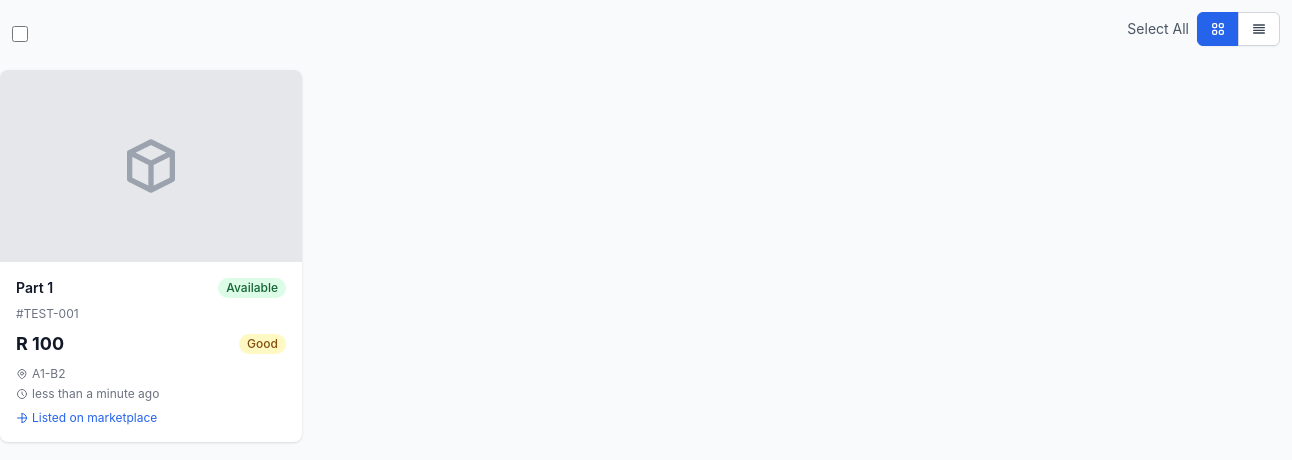
PartsList › View Mode Toggle › switches to list view when list button is clicked
The width and height of the screenshot is (1292, 460).
Click the 3rd button: (1259,29) [1238,12,1280,46]
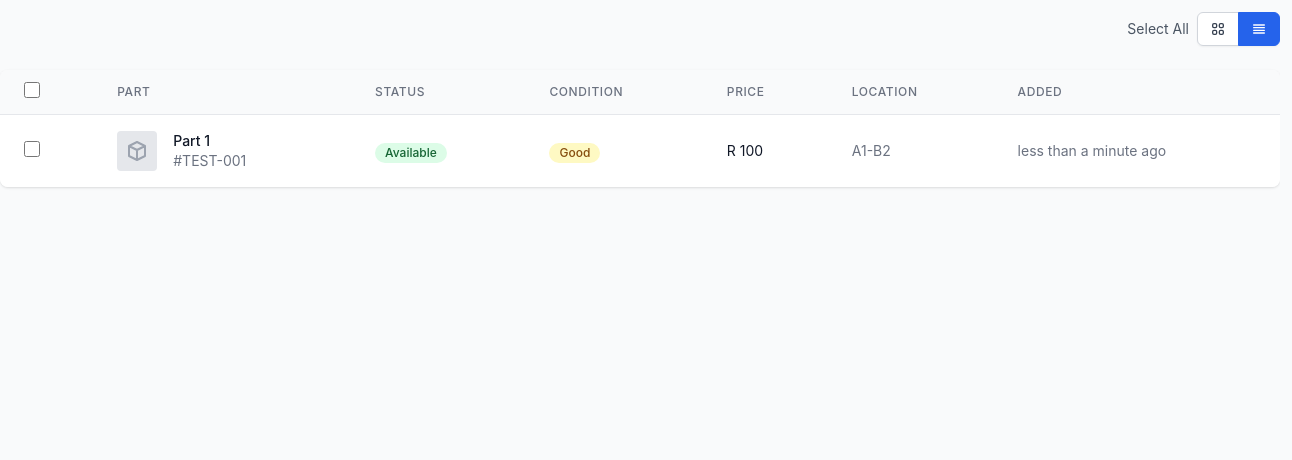
Result: the table is shown at [0,70,1280,187]
